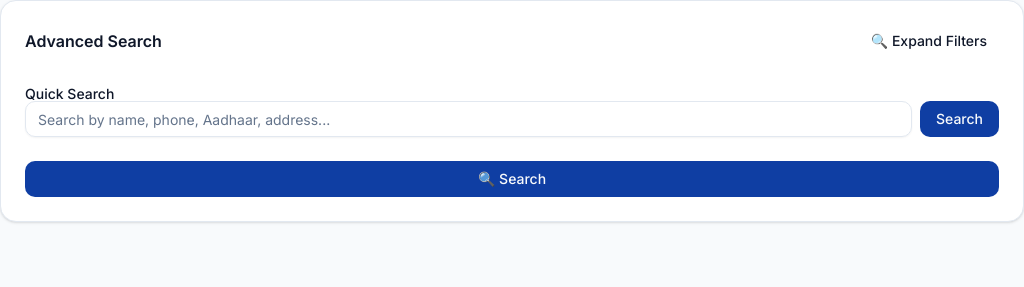
Test: AdvancedSearch Component › clears all filters
Type "test" into the field with placeholder "Search by name, phone, Aadhaar, address...".
click(468, 119); type("test")  # box [25,101,912,137]
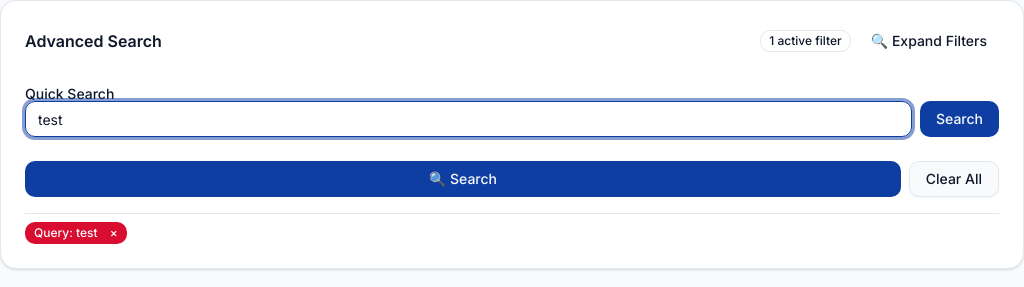
Click the button "Clear All".
click(954, 179)  # box [909,161,999,197]
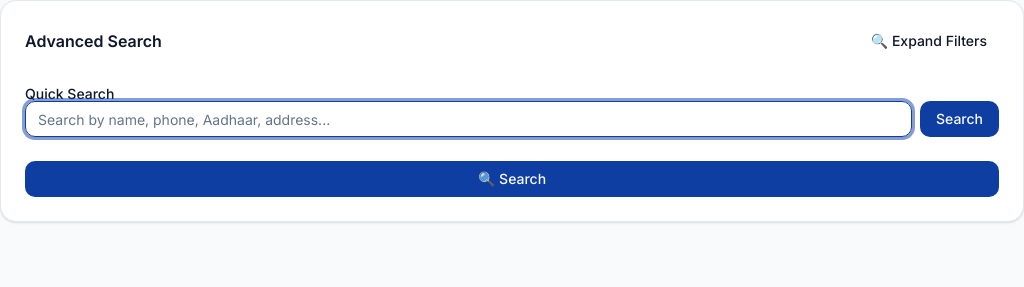
Expected: the field with placeholder "Search by name, phone, Aadhaar, address..." is empty, [25,101,912,137]
